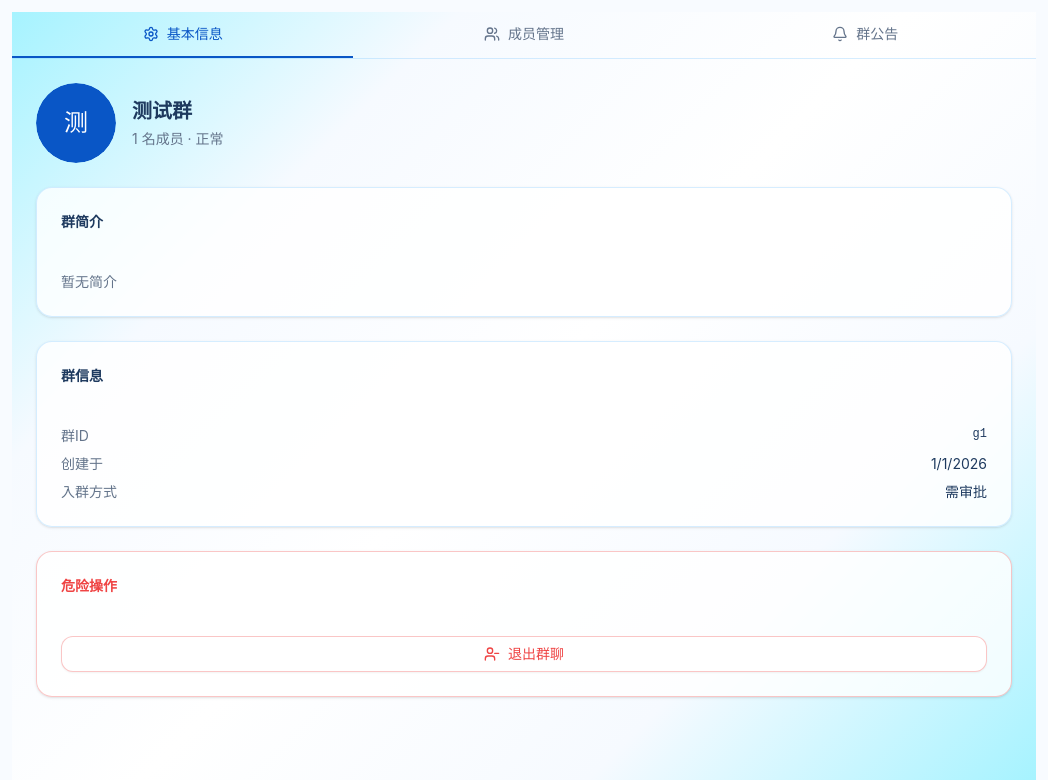
Test: GroupManagement 公告列表三态（loadNotices → noticesError） › 请求失败：显示"加载公告失败：<原因>" + 重试按钮，绝不是"暂无公告"
Click the button "群公告": click(865, 35) [695,12,1036,58]
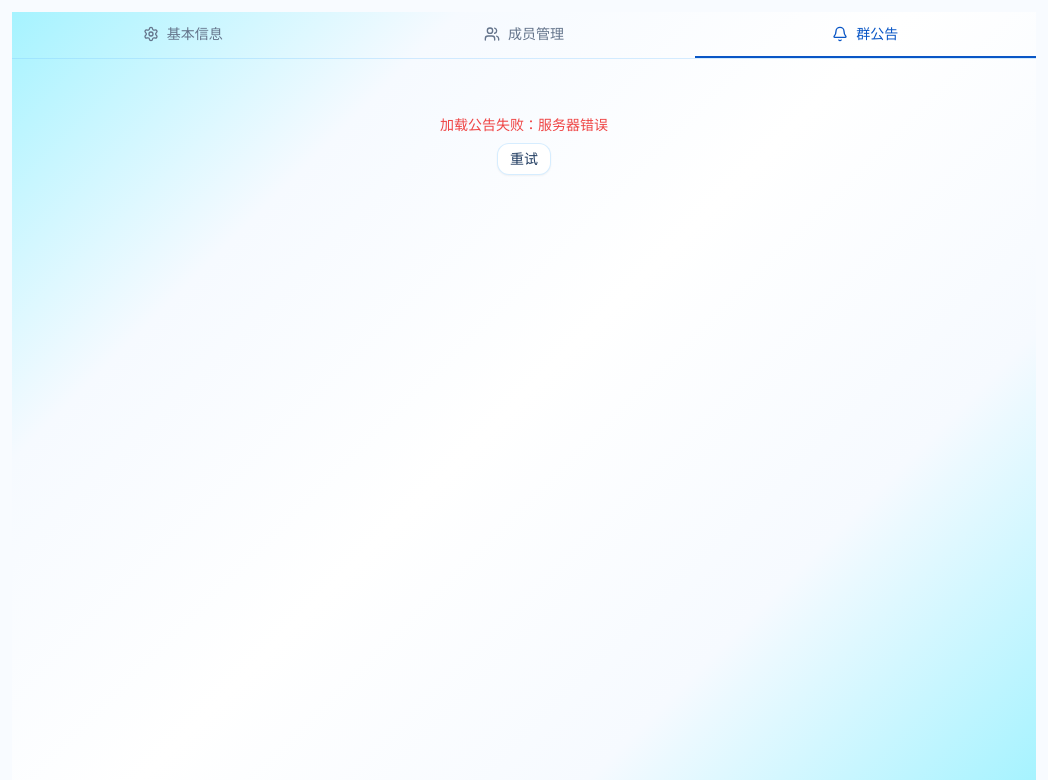
Expected: the text "加载公告失败：服务器错误" is shown, [440,115,608,135]
Expected: the button "重试" is shown, [497,143,551,175]
